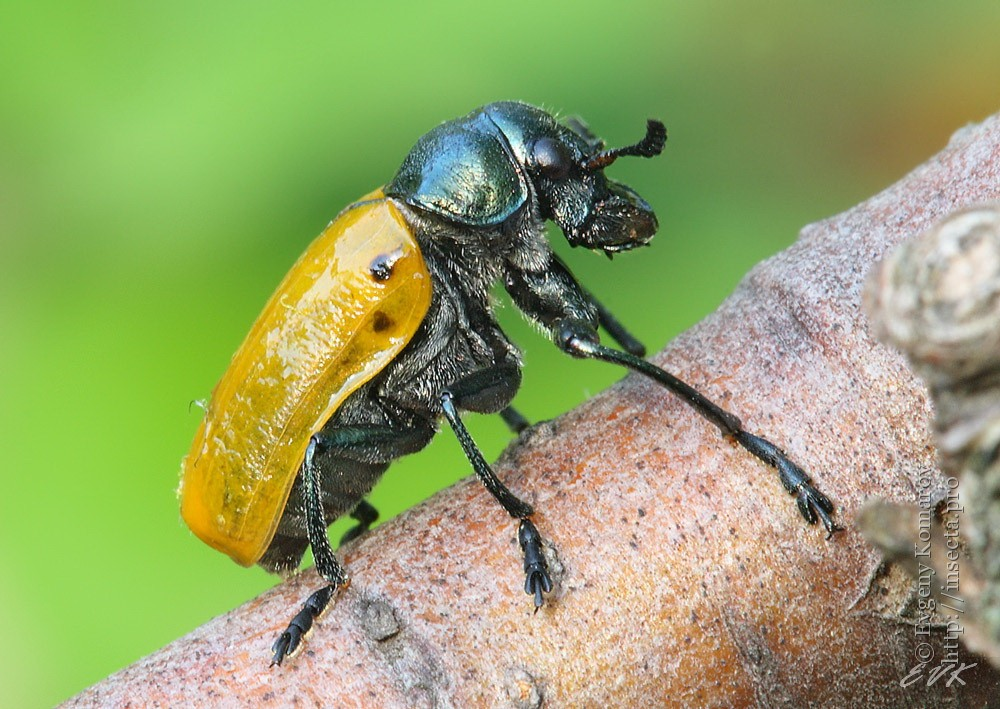Labidostomis_longimana: (170, 96, 843, 669)
